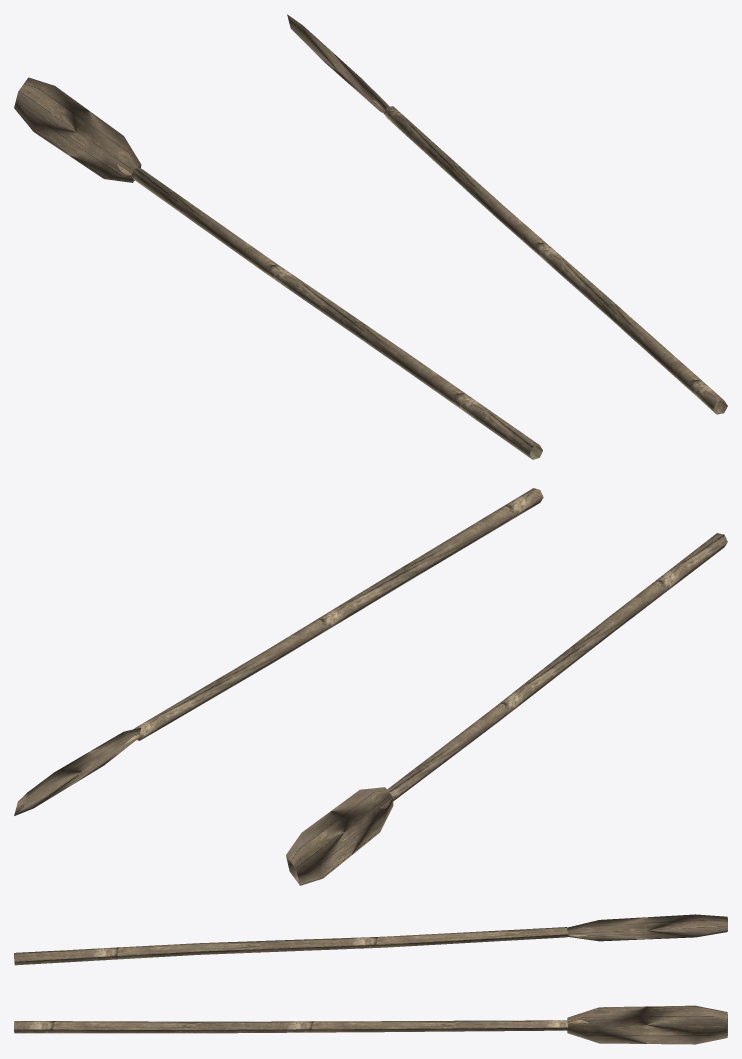
File: th_boat_oars.glb
3 renders of one model, top to bottom at view 1: azimuth 30°, elevation 25°; view 2: azimuth 150°, elevation 25°; view 3: azimuth 270°, elevation 25°, orthographic. The views are drawn at different scales.
Visible parts, largest first — view 1: th_boat_oars; view 2: th_boat_oars; view 3: th_boat_oars.
Part boxes in pixels (x1,y1,x2,y2): th_boat_oars: (14,14,727,459); th_boat_oars: (14,488,727,885); th_boat_oars: (14,914,727,1044).
Bounding box in the file's own units: 0.9753 × 0.1636 × 2.75.
1 material, 1 textured.
